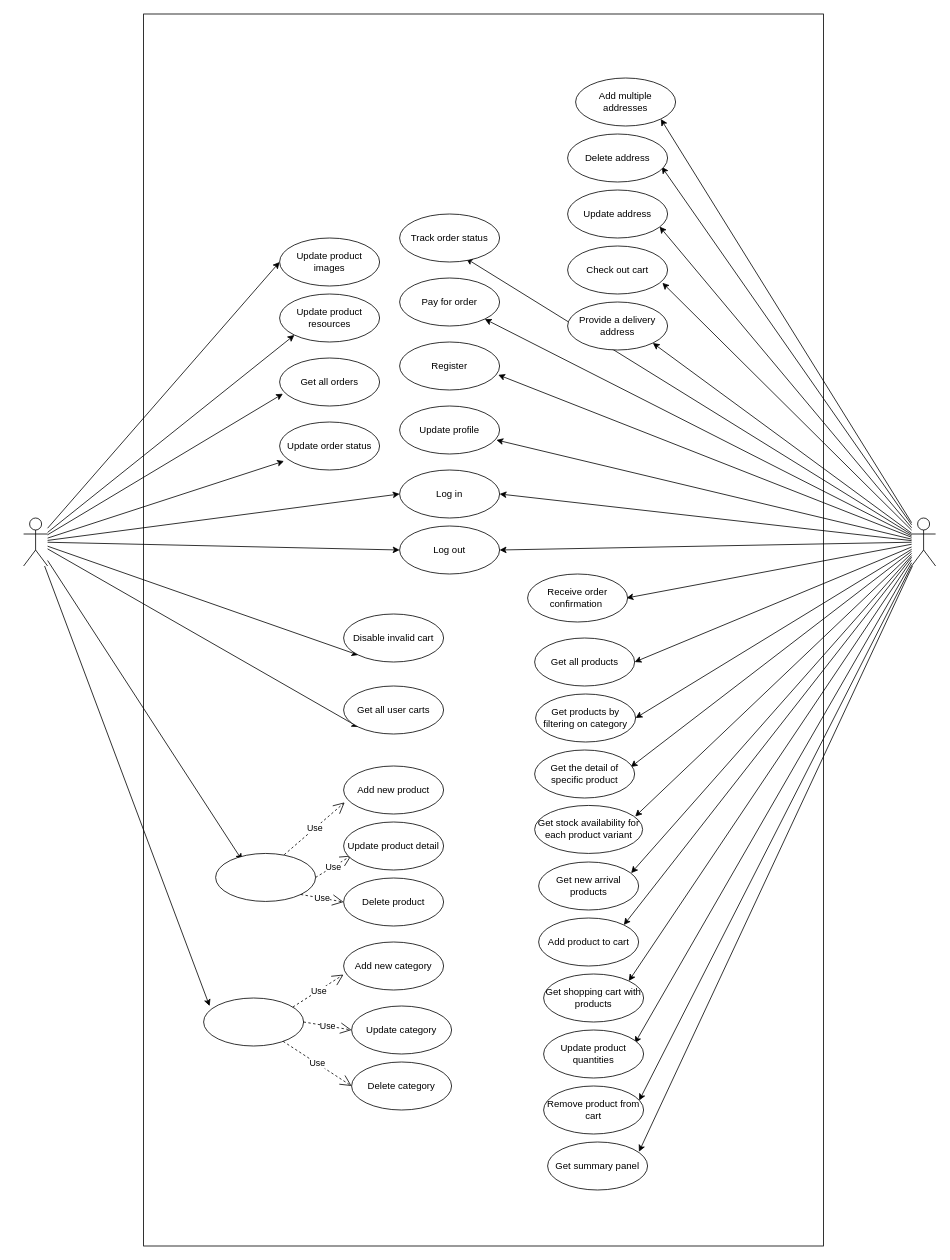
The diagram is 950 pixels wide and 1260 high, and some of its shapes have lost their labels. The box of each missing label's shape, as (x1, y1, x2, y2) in pixels:
Buyer: (911, 517, 936, 566)
Category management: (203, 997, 304, 1046)
Product management: (215, 853, 316, 901)
SysAdmin: (23, 517, 48, 566)
